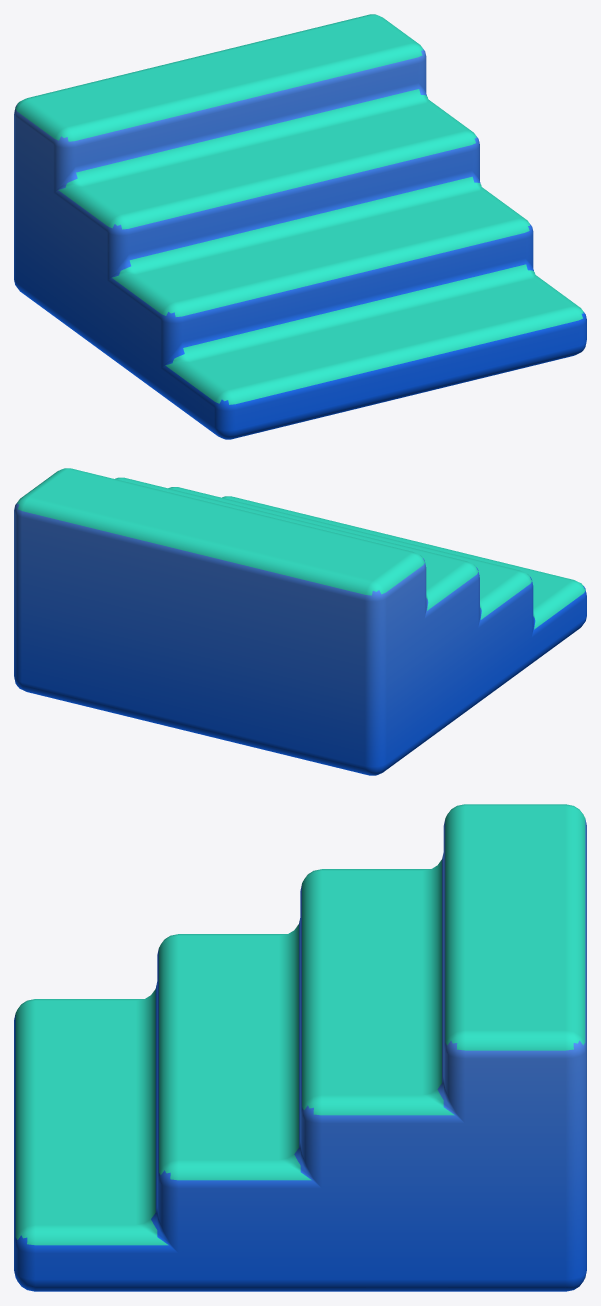
Rendered from stairs_4w_4steps.glb.
3 renders of one model, top to bottom at view 1: azimuth 30°, elevation 25°; view 2: azimuth 150°, elevation 25°; view 3: azimuth 270°, elevation 25°, orthographic. The views are drawn at different scales.
Visible parts, largest first — view 1: stairs_4w_4steps; view 2: stairs_4w_4steps; view 3: stairs_4w_4steps.
Part boxes in pixels (box(x1,y1,x2,y2)): stairs_4w_4steps: box(14, 14, 586, 439); stairs_4w_4steps: box(14, 468, 586, 775); stairs_4w_4steps: box(14, 804, 586, 1291).
Size of the model in its own units: 4 by 2 by 4.
1 material, 1 textured.
